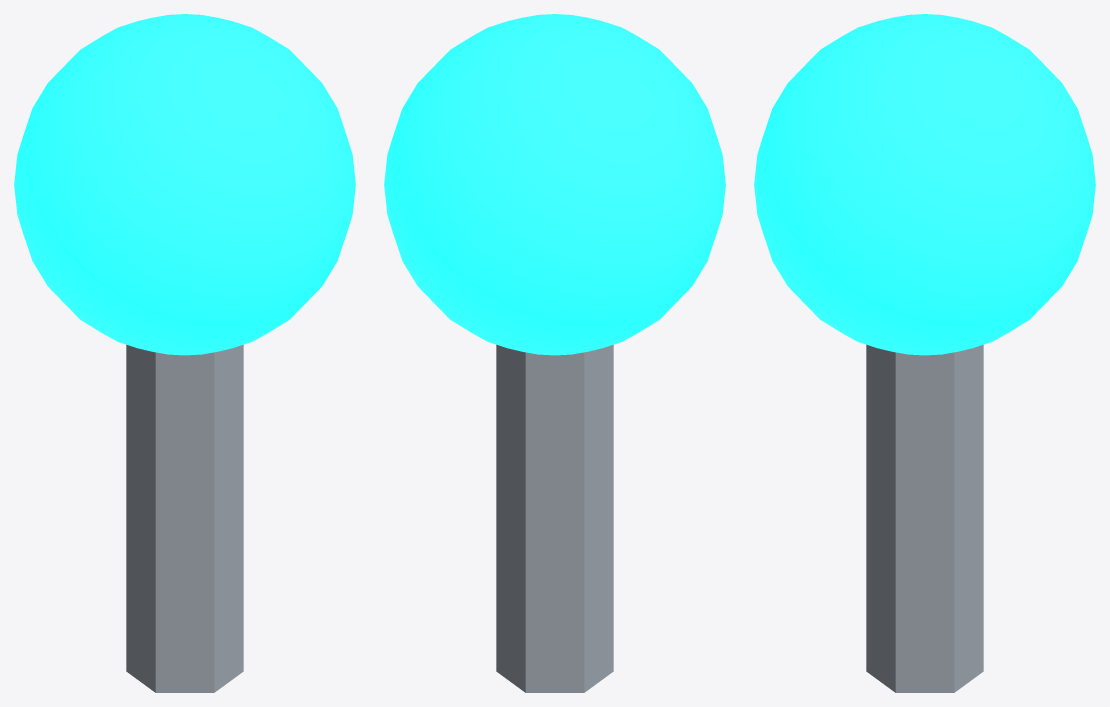
The model's file is tower_skywatch_range_s2.glb.
3 renders of one model, left to right at view 1: azimuth 30°, elevation 25°; view 2: azimuth 150°, elevation 25°; view 3: azimuth 270°, elevation 25°, orthographic.
Visible parts, largest first — view 1: skywatch_iff_lamp, skywatch_iff_lamp_stalk; view 2: skywatch_iff_lamp, skywatch_iff_lamp_stalk; view 3: skywatch_iff_lamp, skywatch_iff_lamp_stalk.
Boxes of the visible parts, bbox=[...] form: skywatch_iff_lamp: bbox=[14, 14, 355, 355]; skywatch_iff_lamp_stalk: bbox=[126, 344, 243, 692]; skywatch_iff_lamp: bbox=[384, 14, 725, 355]; skywatch_iff_lamp_stalk: bbox=[496, 344, 613, 692]; skywatch_iff_lamp: bbox=[754, 14, 1095, 355]; skywatch_iff_lamp_stalk: bbox=[866, 344, 983, 692].
Bounding box in the file's own units: 0.07 × 0.145 × 0.07.
